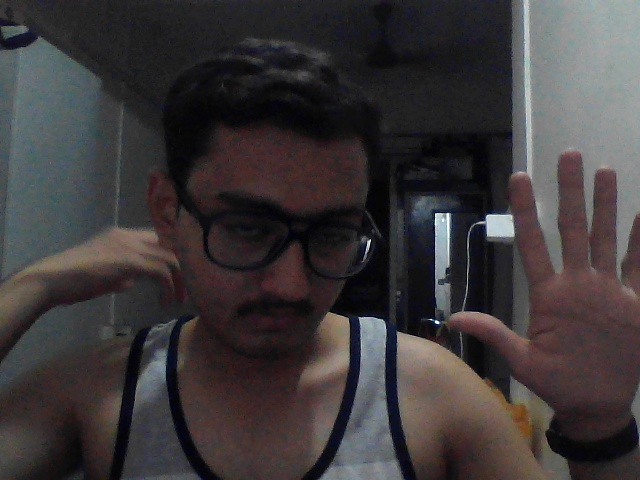Hello: (437, 138, 640, 444)
